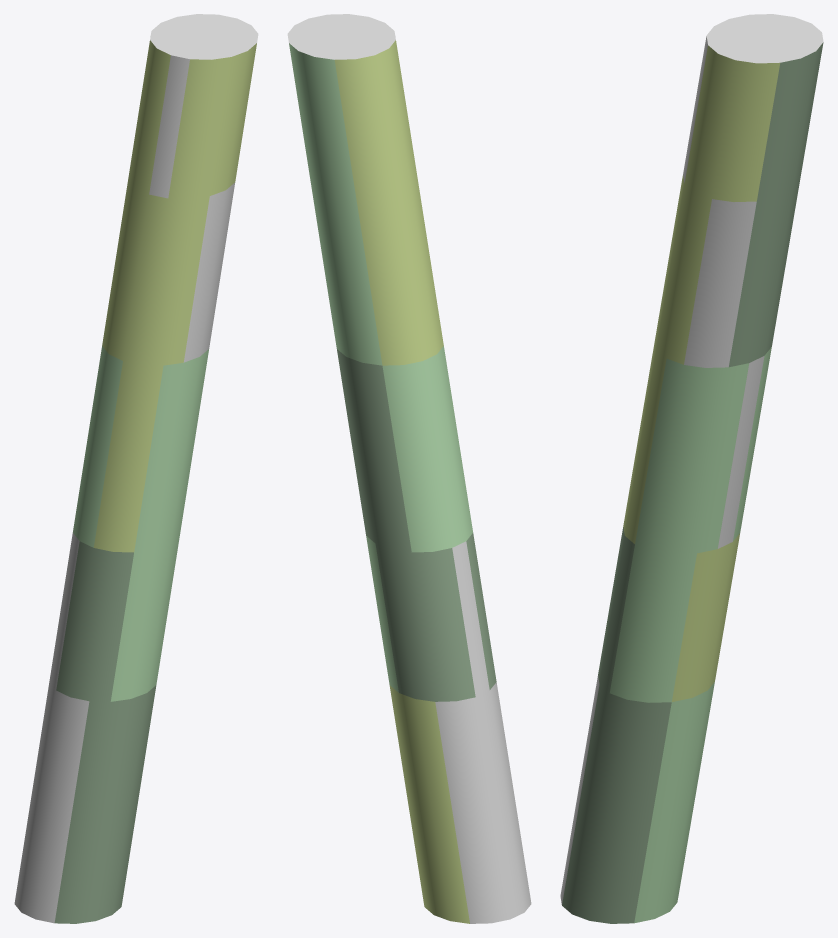
File: AirportPillarSingle.fbx
3 views of the same model, side by side, from view 1: azimuth 30°, elevation 25°; view 2: azimuth 150°, elevation 25°; view 3: azimuth 330°, elevation 25° (orthographic). The views are drawn at different scales.
Parts seen in each view (by area): view 1: PillarSingle; view 2: PillarSingle; view 3: PillarSingle.
Part boxes in pixels (<box>): PillarSingle: <box>14,14,258,923</box>; PillarSingle: <box>287,14,531,923</box>; PillarSingle: <box>560,14,823,923</box>.
Size of the model in its own units: 11.03 by 38.03 by 4.54.
